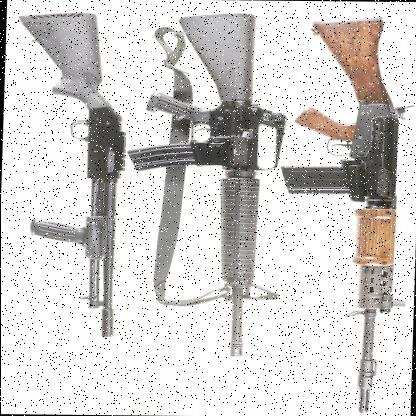rifle: (136, 5, 290, 370), (280, 16, 410, 403), (5, 12, 127, 342)
